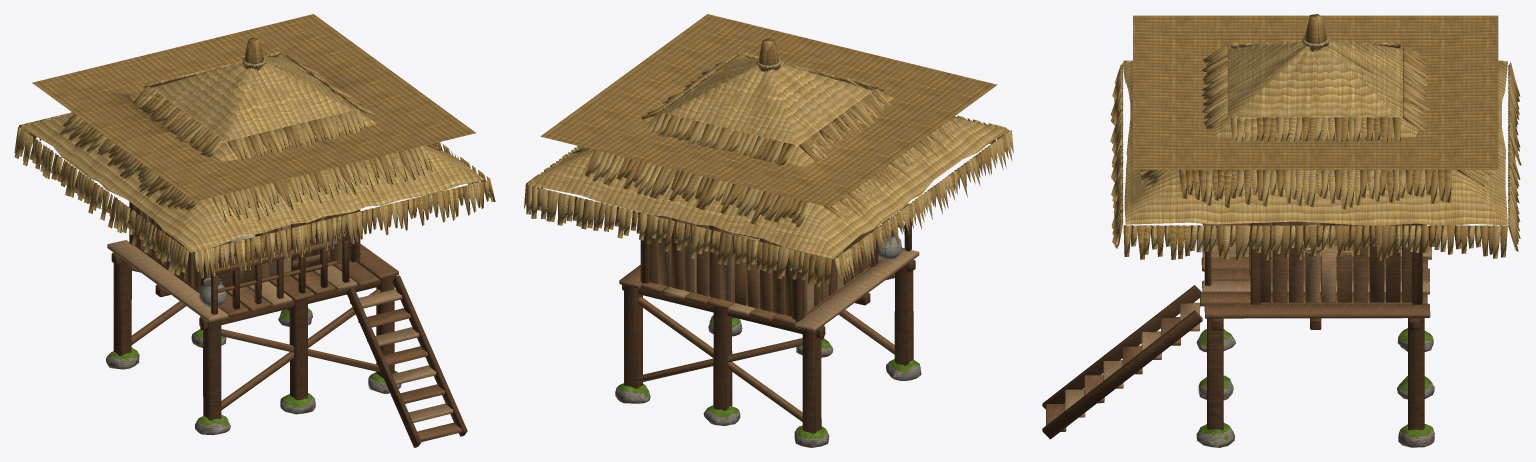
File: hut_tall.glb
The picture shows the model from 3 angles, left to right: view 1: azimuth 30°, elevation 25°; view 2: azimuth 150°, elevation 25°; view 3: azimuth 270°, elevation 25°; orthographic projection. The views are drawn at different scales.
Visible parts, largest first — view 1: hut_tall_Thatch_Dark, hut_tall_Thatch, hut_tall_Wood_Dark, hut_tall_Wood_Plank, hut_tall_Wood_Light, hut_tall_Rock, hut_tall_Rock_Moss; view 2: hut_tall_Thatch_Dark, hut_tall_Thatch, hut_tall_Wood_Plank, hut_tall_Wood_Dark, hut_tall_Wood_Light, hut_tall_Rock, hut_tall_Rock_Moss; view 3: hut_tall_Thatch_Dark, hut_tall_Thatch, hut_tall_Wood_Plank, hut_tall_Wood_Dark, hut_tall_Wood_Light, hut_tall_Rock, hut_tall_Rock_Moss.
Boxes of the visible parts, bbox=[...] form: hut_tall_Thatch_Dark: bbox=[14, 14, 495, 270]; hut_tall_Thatch: bbox=[14, 51, 489, 278]; hut_tall_Wood_Dark: bbox=[111, 201, 467, 447]; hut_tall_Wood_Plank: bbox=[131, 206, 461, 441]; hut_tall_Wood_Light: bbox=[107, 210, 453, 422]; hut_tall_Rock: bbox=[106, 310, 401, 435]; hut_tall_Rock_Moss: bbox=[107, 308, 397, 427]; hut_tall_Thatch_Dark: bbox=[524, 14, 1008, 286]; hut_tall_Thatch: bbox=[526, 53, 1013, 283]; hut_tall_Wood_Plank: bbox=[619, 203, 908, 421]; hut_tall_Wood_Dark: bbox=[622, 214, 915, 433]; hut_tall_Wood_Light: bbox=[658, 216, 919, 331]; hut_tall_Rock: bbox=[615, 315, 921, 447]; hut_tall_Rock_Moss: bbox=[617, 315, 919, 439]; hut_tall_Thatch_Dark: bbox=[1110, 14, 1520, 260]; hut_tall_Thatch: bbox=[1110, 39, 1521, 259]; hut_tall_Wood_Plank: bbox=[1046, 221, 1430, 431]; hut_tall_Wood_Dark: bbox=[1042, 223, 1424, 439]; hut_tall_Wood_Light: bbox=[1065, 222, 1431, 417]; hut_tall_Rock: bbox=[1196, 333, 1434, 447]; hut_tall_Rock_Moss: bbox=[1199, 328, 1433, 440].
Size of the model in its own units: 6.87 by 7 by 8.02.
11 materials, 11 textured.
